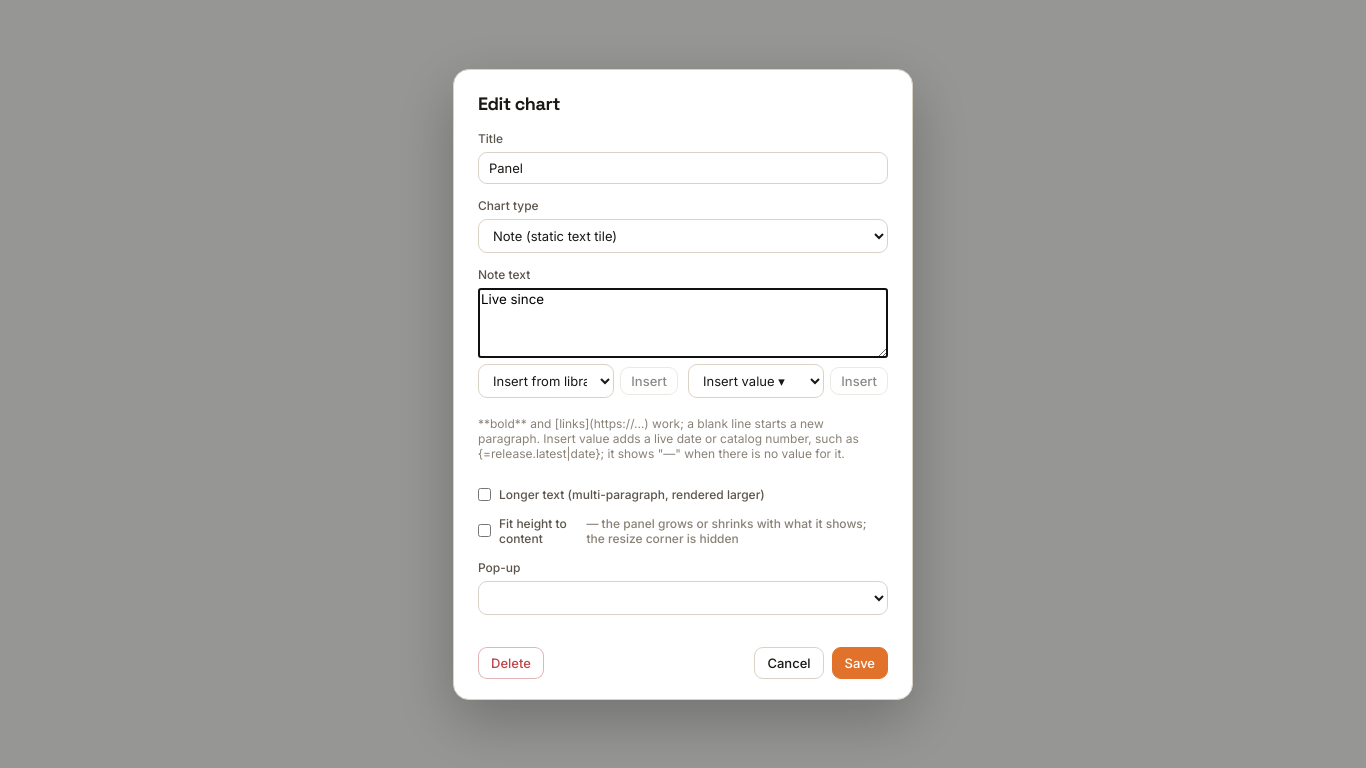
it: focus returns to the text box after Insert › note widget: focus returns to the note text, caret after the token
The width and height of the screenshot is (1366, 768).
Select "Web tracking go-live (Sep 26, 2026)" in the dropdown with class "insert-value" at (756,380), box [688,364,824,398]
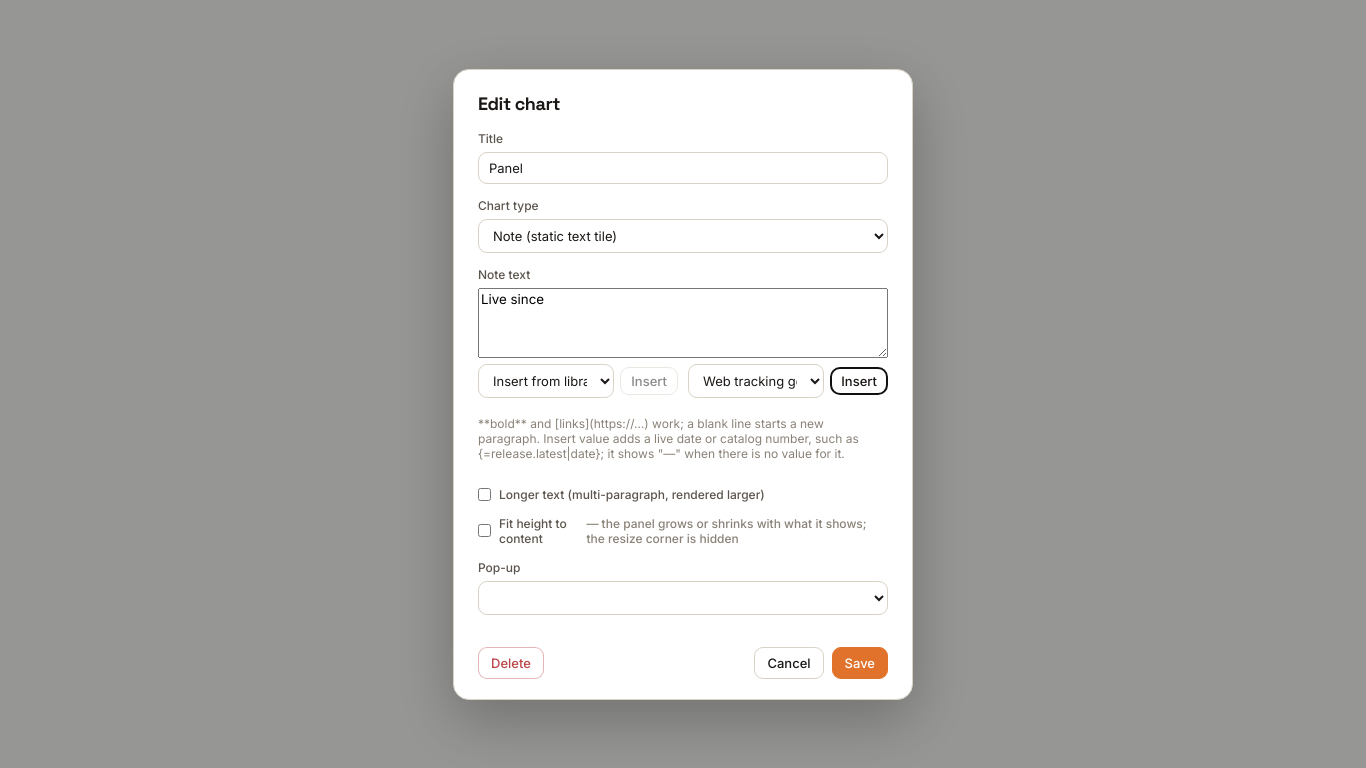
Click the 2nd button with class "insert-picker-btn" at (859,380), box [830,366,888,394]
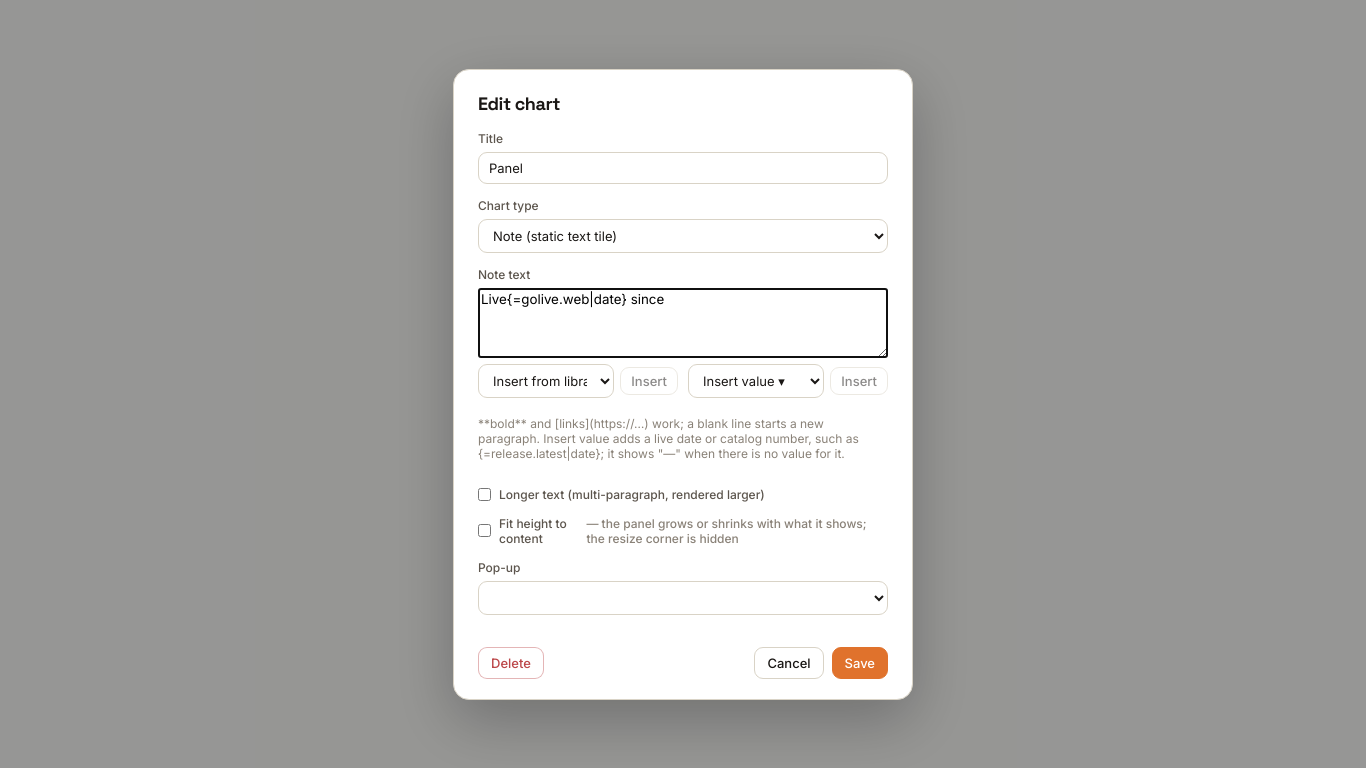
Now the text box labelled "Note text" holds "Live{=golive.web|date} since", box [478,288,888,358]
